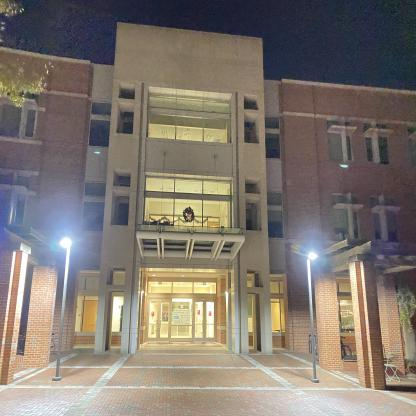eb2: (4, 30, 416, 363)
